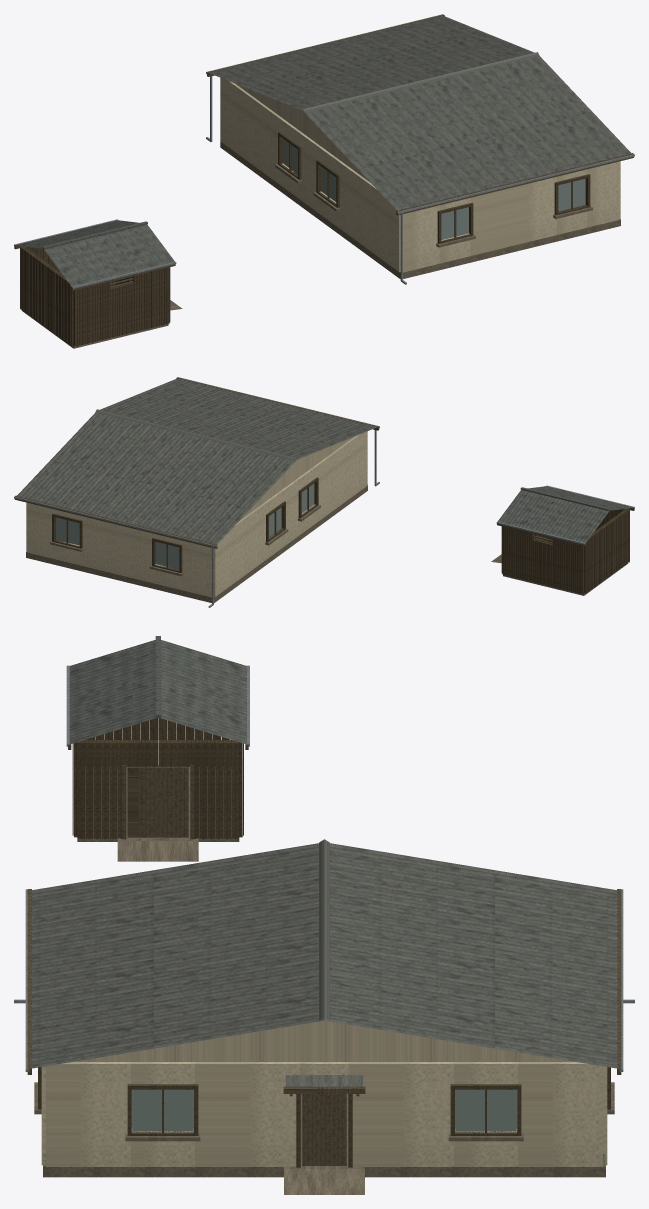
The picture shows the model from 3 angles, top to bottom: view 1: azimuth 30°, elevation 25°; view 2: azimuth 150°, elevation 25°; view 3: azimuth 270°, elevation 25°; orthographic projection. The views are drawn at different scales.
Visible parts, largest first — view 1: H20_CHAPAS_ONDULADAS, H20_FUNDOS, H20_LATERAIS, H20_ABRIGO_JARDIM_COBERTURA, H20_ABRIGO_JARDIM_LATERAL, H20_ABRIGO_JARDIM_MATA_JUNTAS, H20_ABRIGO_JARDIM_FUNDOS, H20_FUNDACAO, H20_VIDROS_RECUADOS, H20_CAIXILHOS, H20_OITOES, H20_BEIRAIS (+4 smaller); view 2: H20_CHAPAS_ONDULADAS, H20_FUNDOS, H20_LATERAIS, H20_ABRIGO_JARDIM_COBERTURA, H20_ABRIGO_JARDIM_LATERAL, H20_ABRIGO_JARDIM_MATA_JUNTAS, H20_ABRIGO_JARDIM_FUNDOS, H20_FUNDACAO, H20_VIDROS_RECUADOS, H20_CAIXILHOS, H20_OITOES, H20_BEIRAIS (+4 smaller); view 3: H20_CHAPAS_ONDULADAS, H20_FACHADA, H20_ABRIGO_JARDIM_COBERTURA, H20_OITOES, H20_ABRIGO_JARDIM_FRENTE, H20_FUNDACAO, H20_VIDROS_RECUADOS, H20_ABRIGO_JARDIM_PORTA_FOLHA, H20_ABRIGO_JARDIM_MATA_JUNTAS, H20_PORTA_FOLHA, H20_CAIXILHOS, H20_ABRIGO_JARDIM_FUNDOS (+10 smaller).
Part boxes in pixels (left/top/right/bottom): H20_CHAPAS_ONDULADAS: left=209, top=16, right=630, bottom=210; H20_FUNDOS: left=220, top=78, right=400, bottom=272; H20_LATERAIS: left=403, top=161, right=619, bottom=272; H20_ABRIGO_JARDIM_COBERTURA: left=15, top=220, right=174, bottom=286; H20_ABRIGO_JARDIM_LATERAL: left=25, top=246, right=169, bottom=346; H20_ABRIGO_JARDIM_MATA_JUNTAS: left=20, top=247, right=167, bottom=346; H20_ABRIGO_JARDIM_FUNDOS: left=20, top=246, right=73, bottom=345; H20_FUNDACAO: left=220, top=141, right=620, bottom=278; H20_VIDROS_RECUADOS: left=283, top=139, right=585, bottom=239; H20_CAIXILHOS: left=278, top=132, right=590, bottom=243; H20_OITOES: left=236, top=84, right=370, bottom=182; H20_BEIRAIS: left=207, top=14, right=633, bottom=215; H20_CHAPAS_ONDULADAS: left=17, top=378, right=376, bottom=544; H20_FUNDOS: left=214, top=431, right=367, bottom=596; H20_LATERAIS: left=27, top=502, right=211, bottom=597; H20_ABRIGO_JARDIM_COBERTURA: left=498, top=486, right=633, bottom=542; H20_ABRIGO_JARDIM_LATERAL: left=502, top=508, right=627, bottom=593; H20_ABRIGO_JARDIM_MATA_JUNTAS: left=503, top=509, right=629, bottom=593; H20_ABRIGO_JARDIM_FUNDOS: left=584, top=508, right=629, bottom=593; H20_FUNDACAO: left=26, top=485, right=367, bottom=602; H20_VIDROS_RECUADOS: left=56, top=483, right=314, bottom=569; H20_CAIXILHOS: left=52, top=477, right=318, bottom=573; H20_OITOES: left=240, top=436, right=354, bottom=519; H20_BEIRAIS: left=14, top=377, right=379, bottom=548; H20_CHAPAS_ONDULADAS: left=30, top=843, right=618, bottom=1068; H20_FACHADA: left=46, top=1062, right=602, bottom=1166; H20_ABRIGO_JARDIM_COBERTURA: left=69, top=640, right=246, bottom=744; H20_OITOES: left=73, top=1020, right=575, bottom=1061; H20_ABRIGO_JARDIM_FRENTE: left=77, top=740, right=239, bottom=838; H20_FUNDACAO: left=43, top=1090, right=605, bottom=1177; H20_VIDROS_RECUADOS: left=132, top=1089, right=516, bottom=1131; H20_ABRIGO_JARDIM_PORTA_FOLHA: left=127, top=766, right=188, bottom=837; H20_ABRIGO_JARDIM_MATA_JUNTAS: left=72, top=743, right=243, bottom=839; H20_PORTA_FOLHA: left=302, top=1094, right=346, bottom=1165; H20_CAIXILHOS: left=38, top=1067, right=610, bottom=1135; H20_ABRIGO_JARDIM_FUNDOS: left=85, top=718, right=231, bottom=766.
Bounding box in the file's own units: 23.84 × 4.28 × 14.56.
11 materials, 9 textured.
